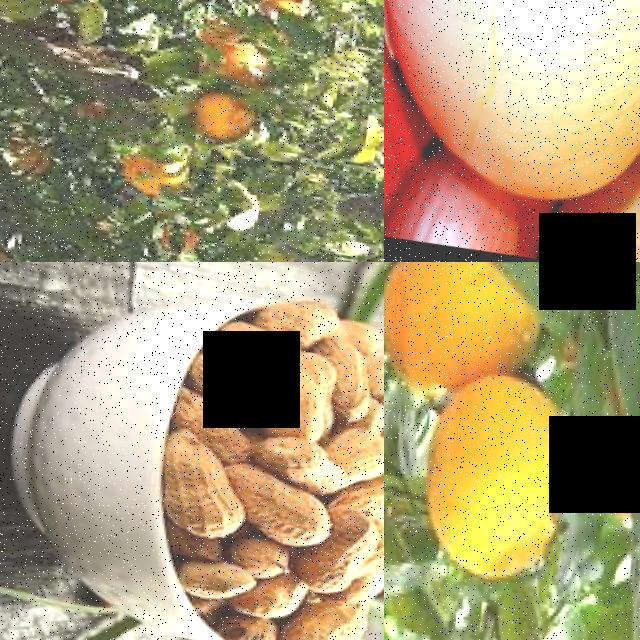onion: (384, 0, 640, 247)
orange: (398, 364, 586, 591), (384, 262, 557, 395), (182, 89, 255, 148)
peanuts: (142, 432, 252, 545), (225, 477, 334, 557), (298, 513, 382, 600), (245, 435, 349, 498), (254, 370, 332, 447), (249, 295, 344, 353), (164, 555, 254, 611), (320, 343, 380, 426), (168, 393, 254, 448), (181, 347, 262, 404), (319, 427, 384, 491), (276, 596, 370, 640), (331, 471, 384, 532)
